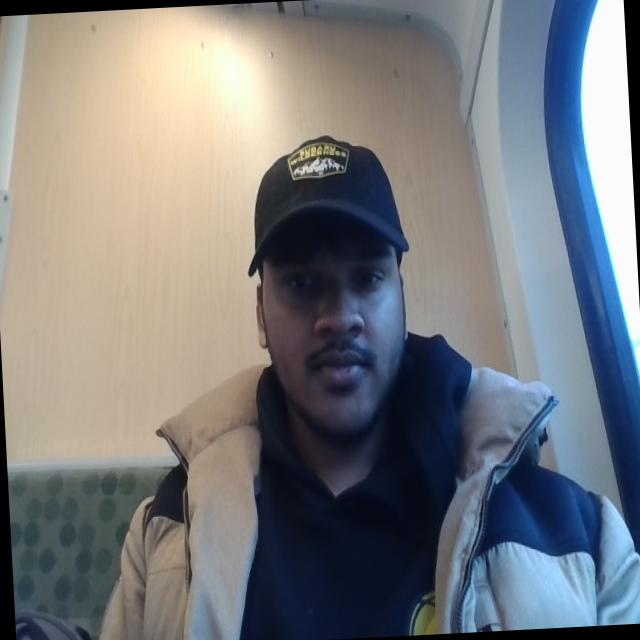hat: (240, 127, 419, 278)
